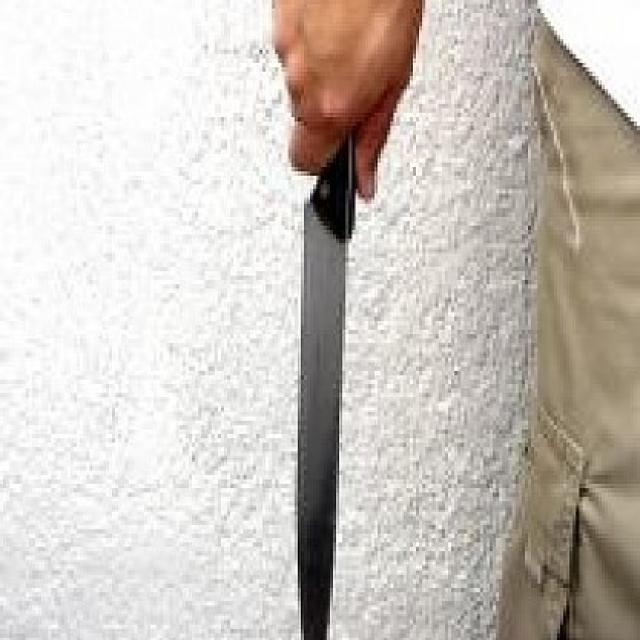knife: (290, 174, 362, 640)
